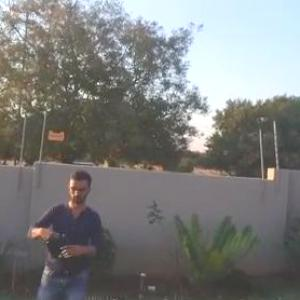follow: (24, 160, 105, 299)
